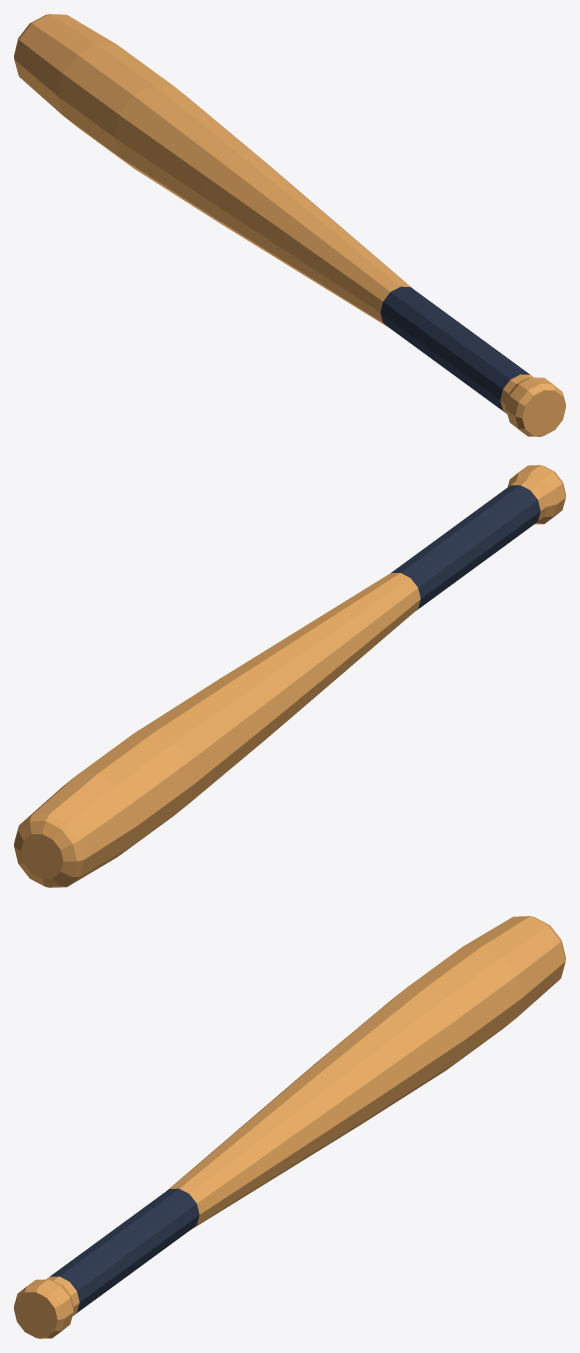
File: Broken bat.fbx
3 renders of one model, top to bottom at view 1: azimuth 30°, elevation 25°; view 2: azimuth 150°, elevation 25°; view 3: azimuth 330°, elevation 25°, orthographic.
Parts seen in each view (by area): view 1: Bat.001, Bat; view 2: Bat.001, Bat; view 3: Bat.001, Bat.
Part boxes in pixels (x1,y1,x2,y2): Bat.001: (14, 14, 297, 242); Bat: (225, 165, 565, 436); Bat.001: (14, 648, 294, 887); Bat: (253, 465, 565, 720); Bat.001: (286, 916, 565, 1145); Bat: (14, 1067, 358, 1338).
Size of the model in its own units: 228 by 228 by 2477.
